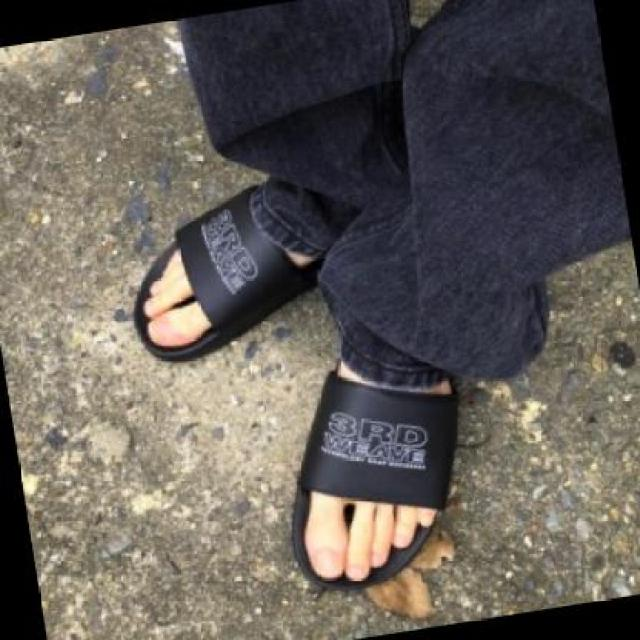Sandals: (281, 311, 470, 613), (129, 160, 334, 375)
